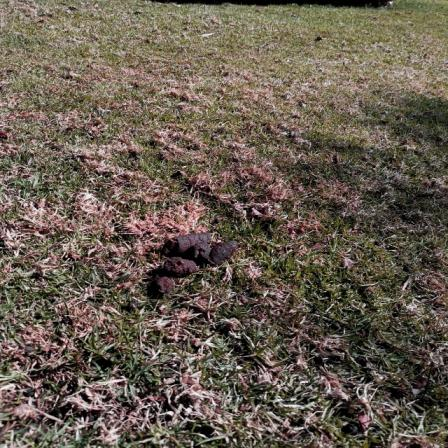dog-poop: (158, 228, 239, 296)
